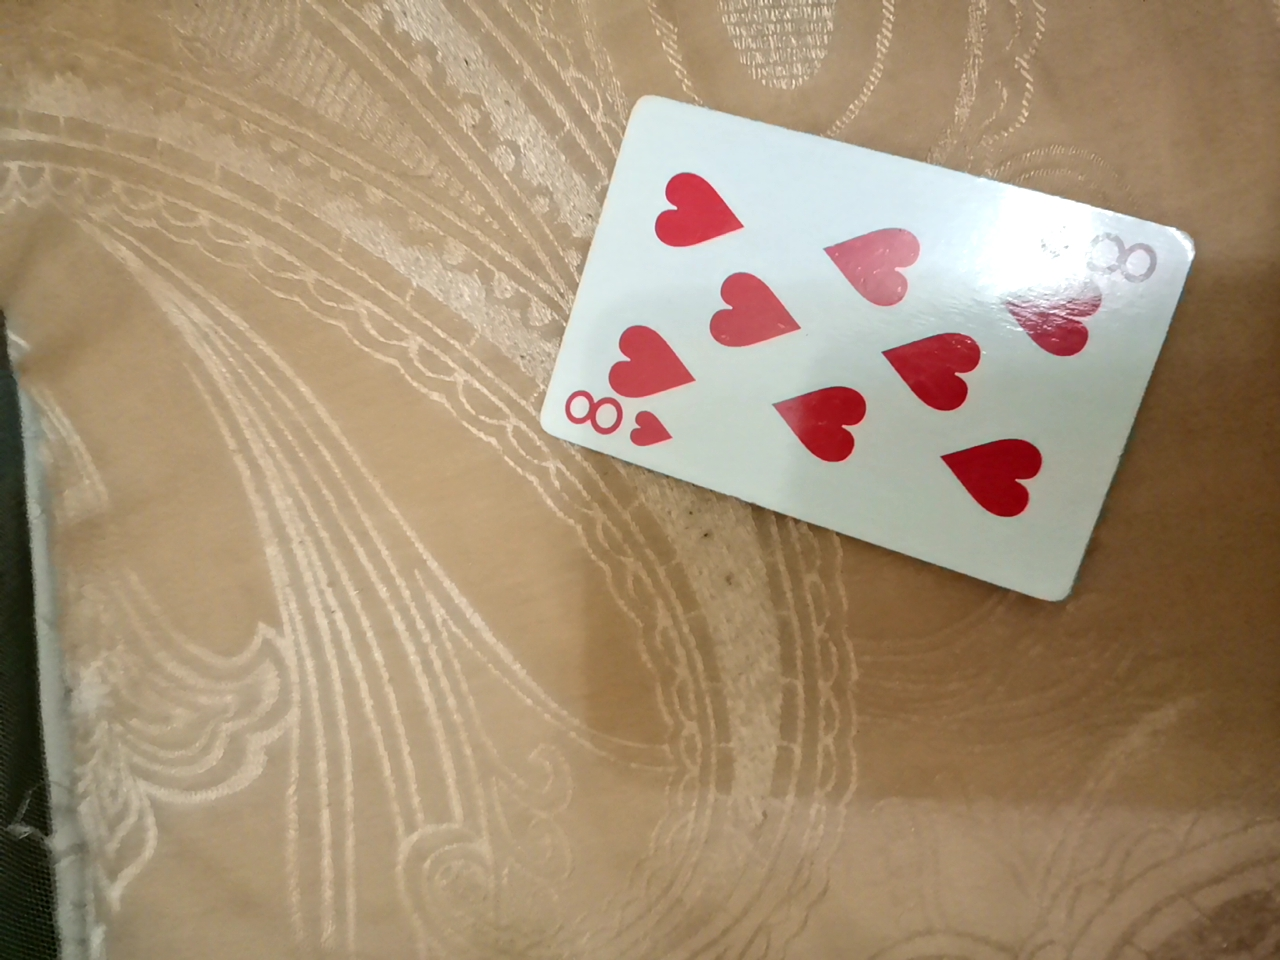hx 8: (515, 129, 1198, 663)
